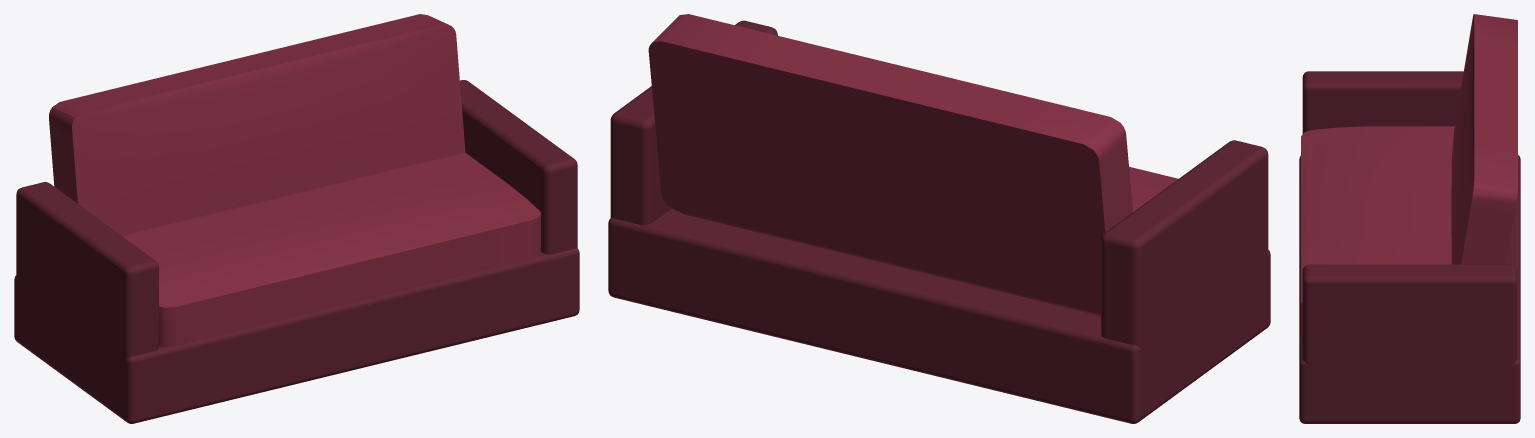
File: double-sofa.glb
3 renders of one model, left to right at view 1: azimuth 30°, elevation 25°; view 2: azimuth 150°, elevation 25°; view 3: azimuth 270°, elevation 25°, orthographic. The views are drawn at different scales.
Visible parts, largest first — view 1: merged-One-piece structured sofa seat cushion, merged-One-piece grounded upholstered sofa base; view 2: merged-One-piece structured sofa seat cushion, merged-One-piece grounded upholstered sofa base; view 3: merged-One-piece grounded upholstered sofa base, merged-One-piece structured sofa seat cushion.
Part boxes in pixels (box(x1,y1,x2,y2)): merged-One-piece structured sofa seat cushion: box(49, 14, 540, 346); merged-One-piece grounded upholstered sofa base: box(14, 80, 579, 423); merged-One-piece structured sofa seat cushion: box(648, 14, 1178, 315); merged-One-piece grounded upholstered sofa base: box(608, 20, 1270, 423); merged-One-piece grounded upholstered sofa base: box(1299, 71, 1520, 423); merged-One-piece structured sofa seat cushion: box(1301, 14, 1517, 340).
Bounding box in the file's own units: 1.52 × 0.7563 × 0.68.
